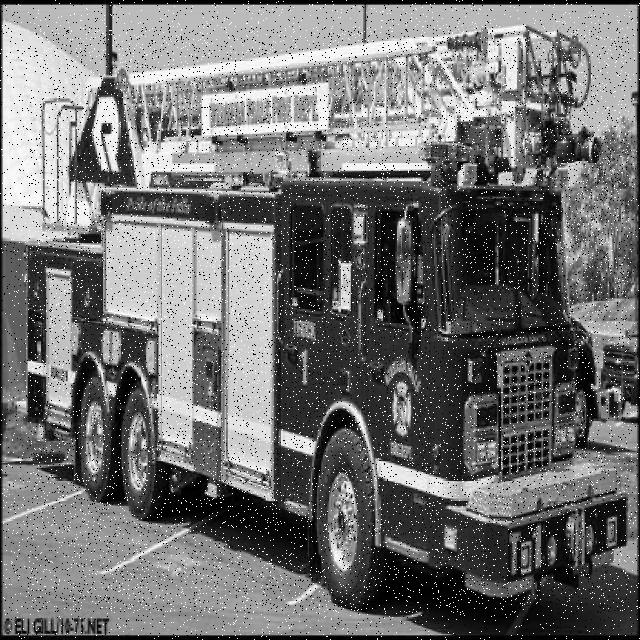Fire Truck: (26, 26, 629, 612)
